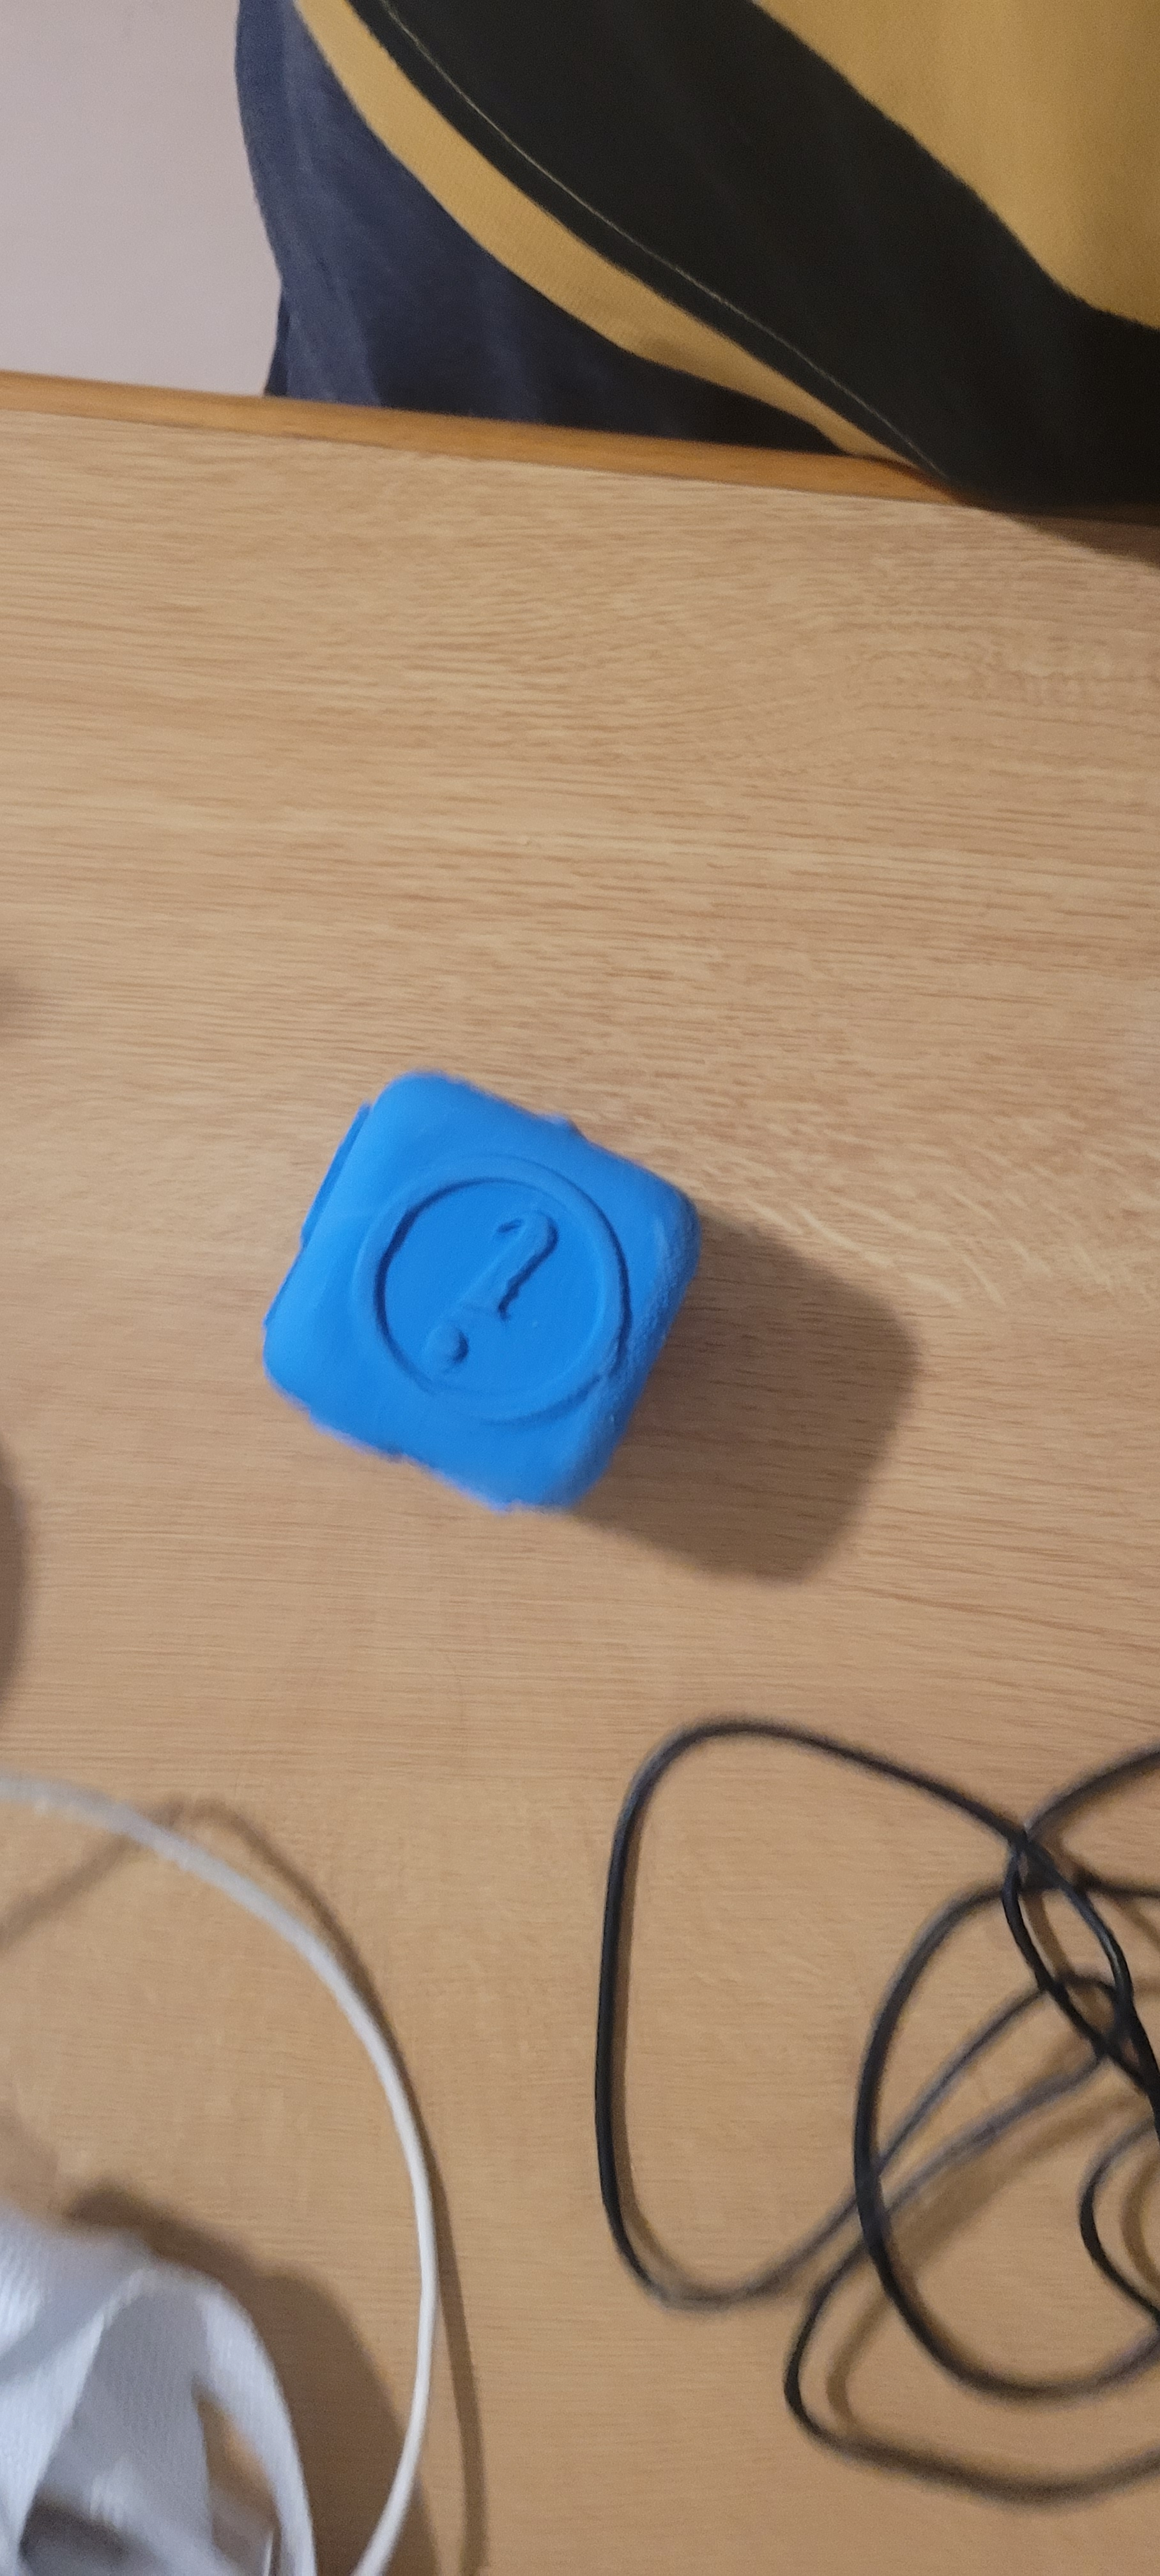Info: (347, 1112, 662, 1467)
